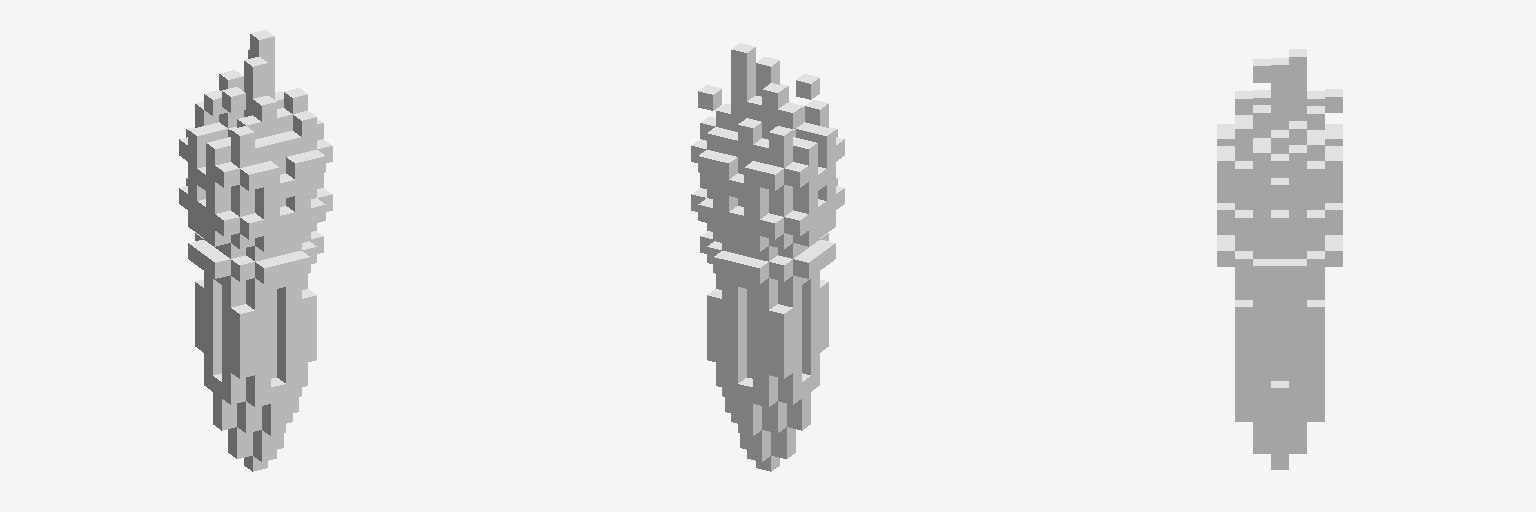
The model's file is tool_torch.obj.
The picture shows the model from 3 angles: view 1: azimuth 30°, elevation 25°; view 2: azimuth 150°, elevation 25°; view 3: azimuth 270°, elevation 25°; orthographic projection.
Parts seen in each view (by area): view 1: object 1; view 2: object 1; view 3: object 1.
Boxes of the visible parts, box(x1,y1,x2,y2) form: object 1: box(179, 30, 332, 471); object 1: box(691, 43, 844, 471); object 1: box(1217, 49, 1342, 469).
Bounding box in the file's own units: 0.7 × 2.6 × 0.7.